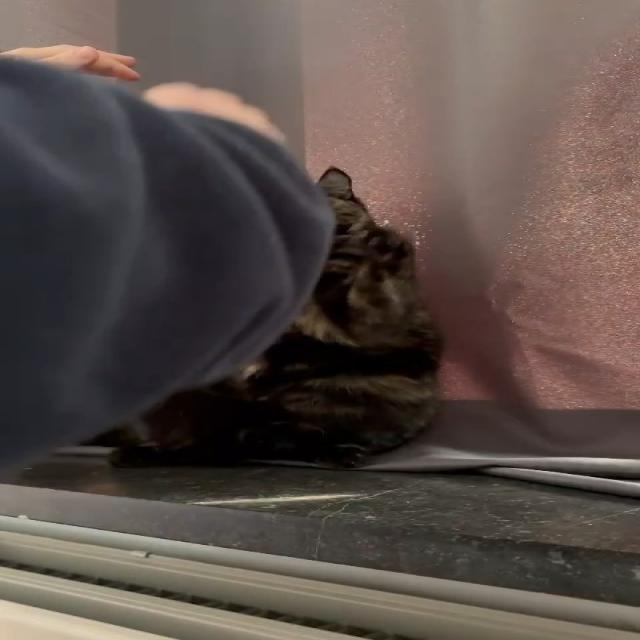authorized: (85, 164, 444, 470)
